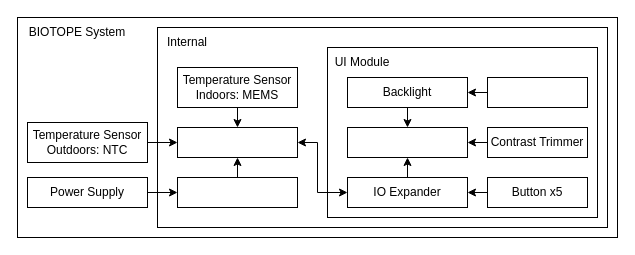
The diagram is 635 pixels wide and 255 high, and some of its shapes have lost their labels. The shapes that lost their labels are listed below. From the top down, each one's centre as x and y in pixels, then its label:
pixel 537 92: Backlight Trimmer
pixel 237 142: Controller
pixel 407 142: LCD
pixel 237 192: Voltage Regulator
